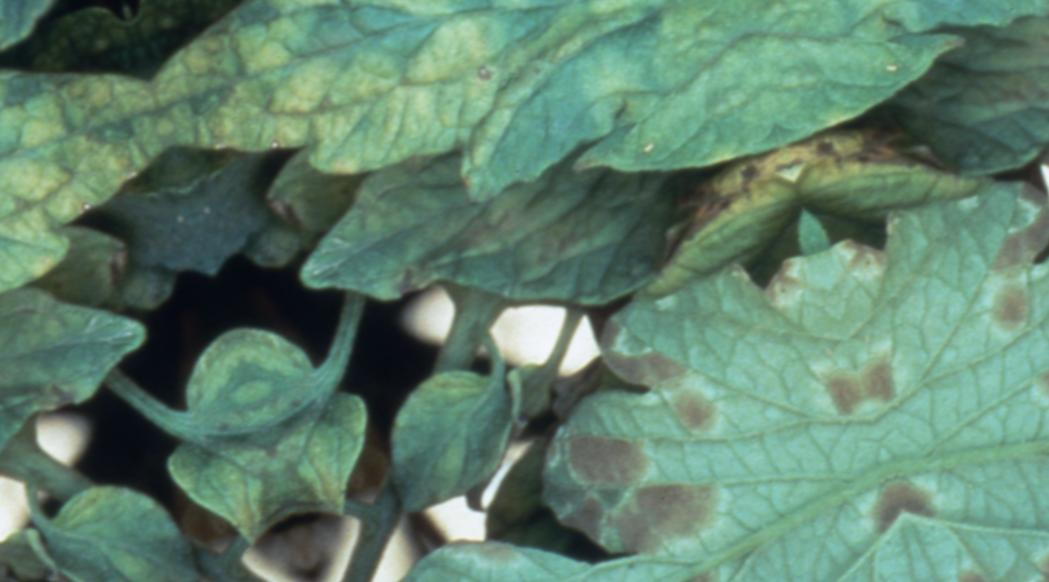Tomato mold leaf: (261, 239, 963, 582), (101, 0, 780, 317), (228, 288, 403, 551)
